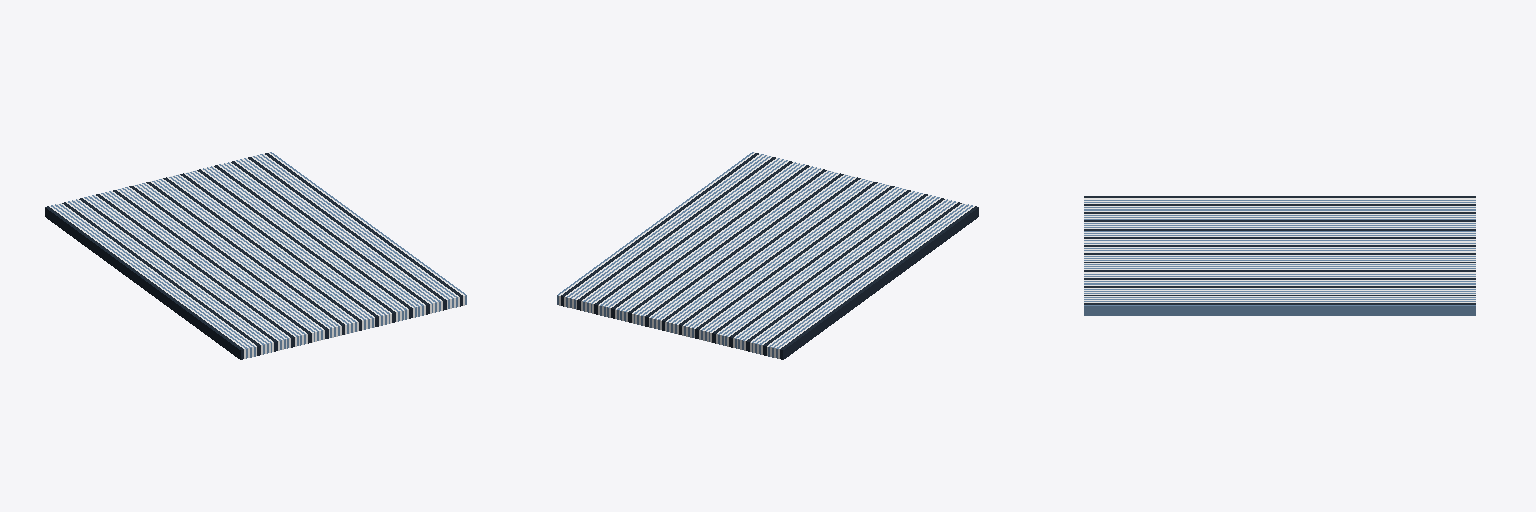
The picture shows the model from 3 angles: view 1: azimuth 30°, elevation 25°; view 2: azimuth 150°, elevation 25°; view 3: azimuth 270°, elevation 25°; orthographic projection.
Visible parts, largest first — view 1: object 1; view 2: object 1; view 3: object 1.
Boxes of the visible parts, x1=… form: object 1: x1=45, y1=152, x2=466, y2=359; object 1: x1=557, y1=152, x2=978, y2=359; object 1: x1=1084, y1=196, x2=1475, y2=315.
Bounding box in the file's own units: 12.1 × 0.5 × 18.1.
Materials: 1 (1 with a texture image).